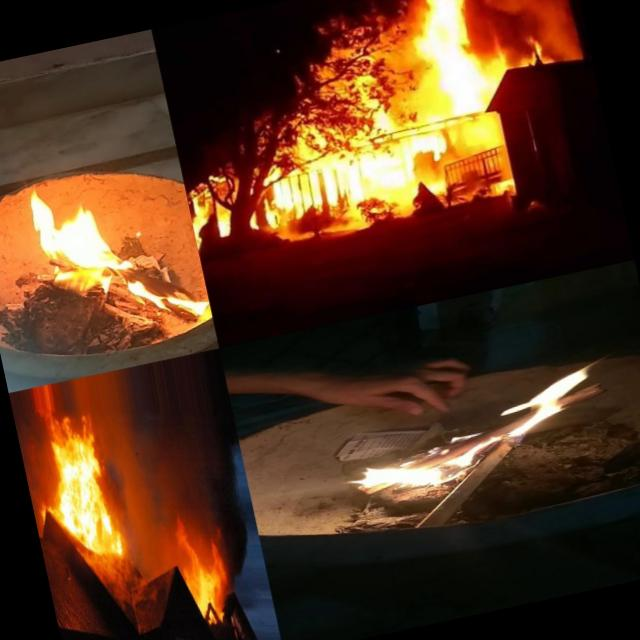fire: (318, 356, 630, 511), (16, 154, 198, 349), (384, 0, 506, 134), (41, 412, 122, 564), (170, 521, 233, 626), (184, 178, 232, 272), (488, 22, 554, 74)
